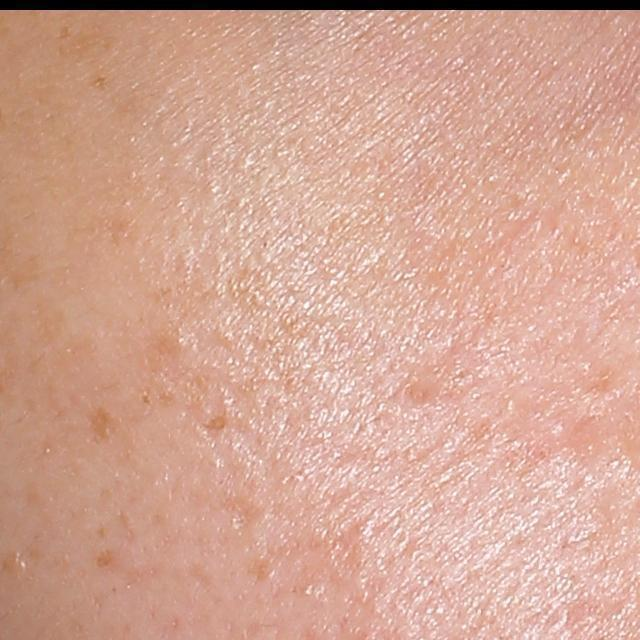melasma: (92, 545, 164, 583), (84, 408, 126, 455)
